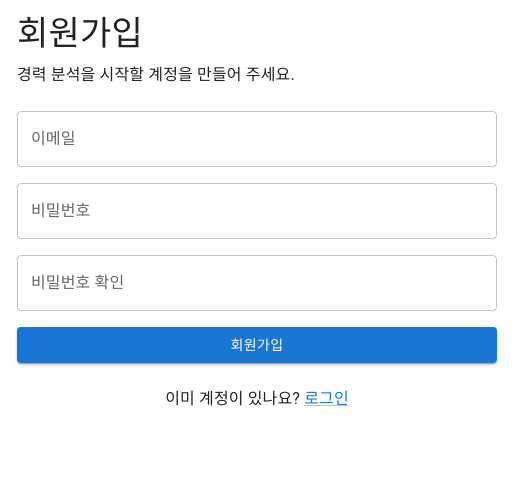
Test case: 회원가입 화면 › 중복 이메일 오류를 가입 화면 메시지로 안내한다
Type "user@example.com" into the field labelled "이메일" at [257, 139], box [17,111,497,167]
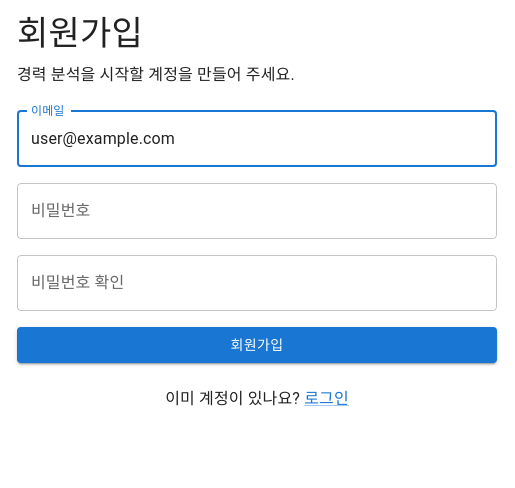
Type "password" into the password field labelled "비밀번호" at [257, 211], box [17,183,497,239]
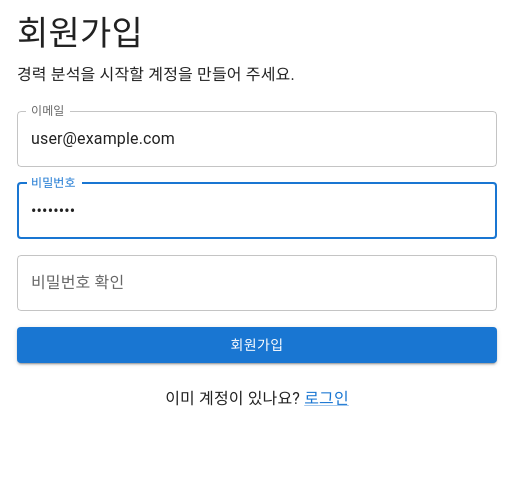
Type "password" into the password field labelled "비밀번호 확인" at [257, 283], box [17,255,497,311]
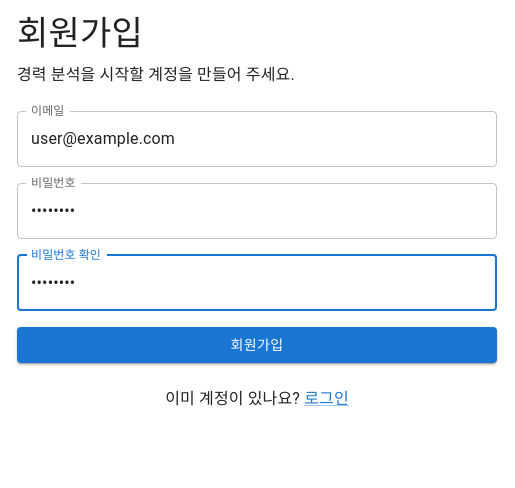
Click the button "회원가입" at [257, 345], box [17,327,497,364]
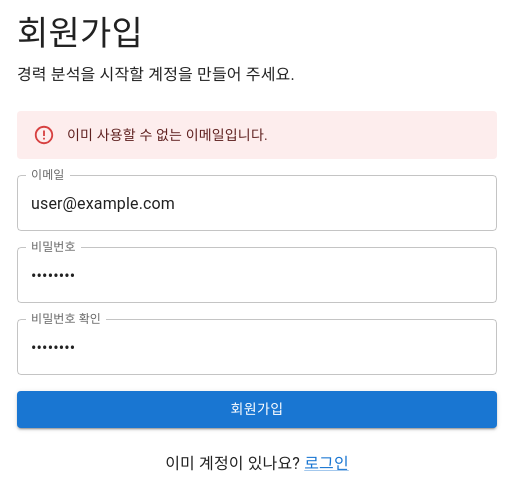
Now the text "이미 사용할 수 없는 이메일입니다." is shown, box [67,127,268,143]
